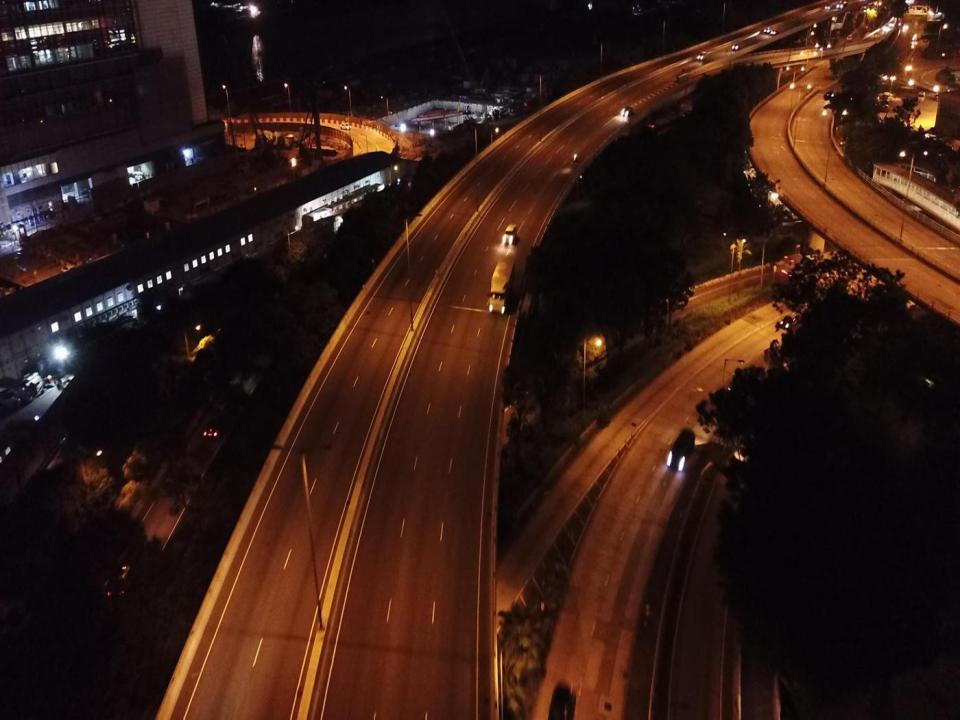car: (549, 684, 576, 718), (204, 408, 222, 437), (780, 310, 802, 329), (504, 222, 517, 245), (621, 106, 633, 115), (340, 121, 351, 130), (648, 121, 660, 129), (771, 28, 778, 35), (764, 26, 772, 32), (732, 44, 740, 49), (825, 5, 832, 9), (847, 35, 852, 40)
truck: (488, 260, 514, 317), (836, 0, 847, 8)
van: (666, 426, 696, 470), (107, 563, 134, 598), (697, 51, 707, 60), (918, 92, 925, 102)
